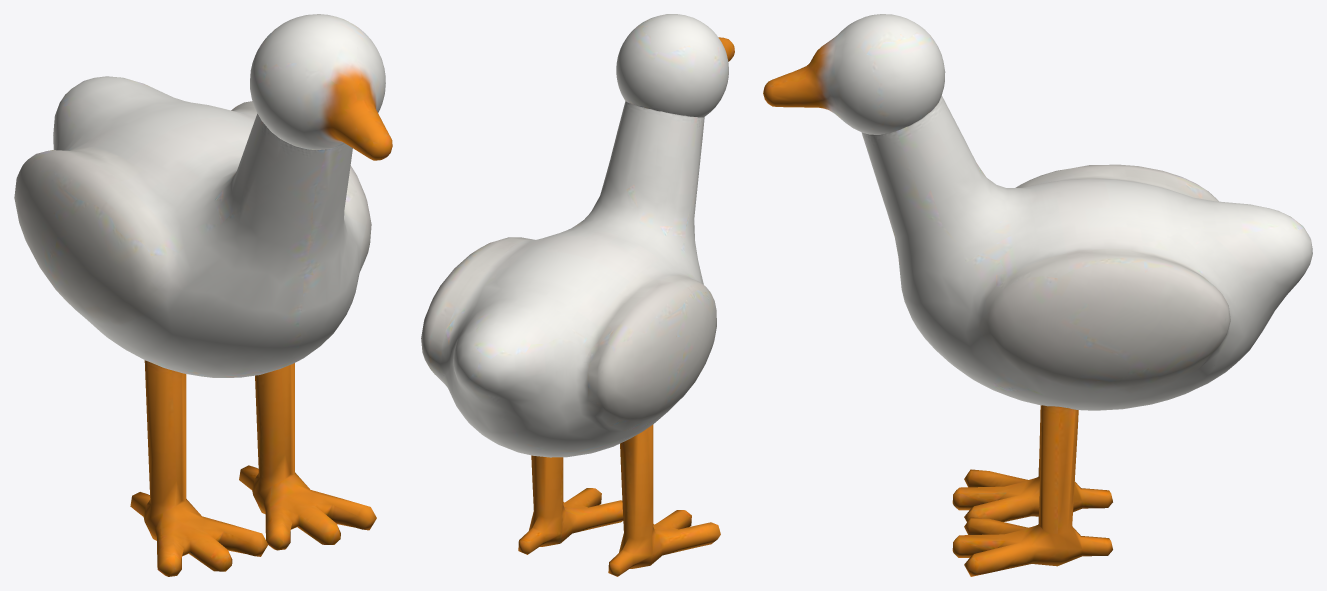
The model's file is animal_goose.glb.
3 renders of one model, left to right at view 1: azimuth 30°, elevation 25°; view 2: azimuth 150°, elevation 25°; view 3: azimuth 270°, elevation 25°, orthographic. The views are drawn at different scales.
Parts seen in each view (by area): view 1: animal_goose, head, leg0, leg1; view 2: animal_goose, head, leg0, leg1; view 3: animal_goose, head, leg1, leg0.
Part boxes in pixels (left/top/right/bottom): animal_goose: left=14, top=76, right=371, bottom=377; head: left=250, top=14, right=392, bottom=160; leg0: left=130, top=360, right=268, bottom=576; leg1: left=239, top=363, right=376, bottom=550; animal_goose: left=421, top=101, right=716, bottom=457; head: left=616, top=14, right=734, bottom=117; leg0: left=608, top=424, right=720, bottom=576; leg1: left=518, top=455, right=623, bottom=554; animal_goose: left=861, top=95, right=1312, bottom=410; head: left=763, top=14, right=945, bottom=134; leg1: left=952, top=405, right=1112, bottom=576; leg0: left=952, top=405, right=1112, bottom=521.
Size of the model in its own units: 0.1771 by 0.3561 by 0.3407.
Materials: 1 (1 with a texture image).
